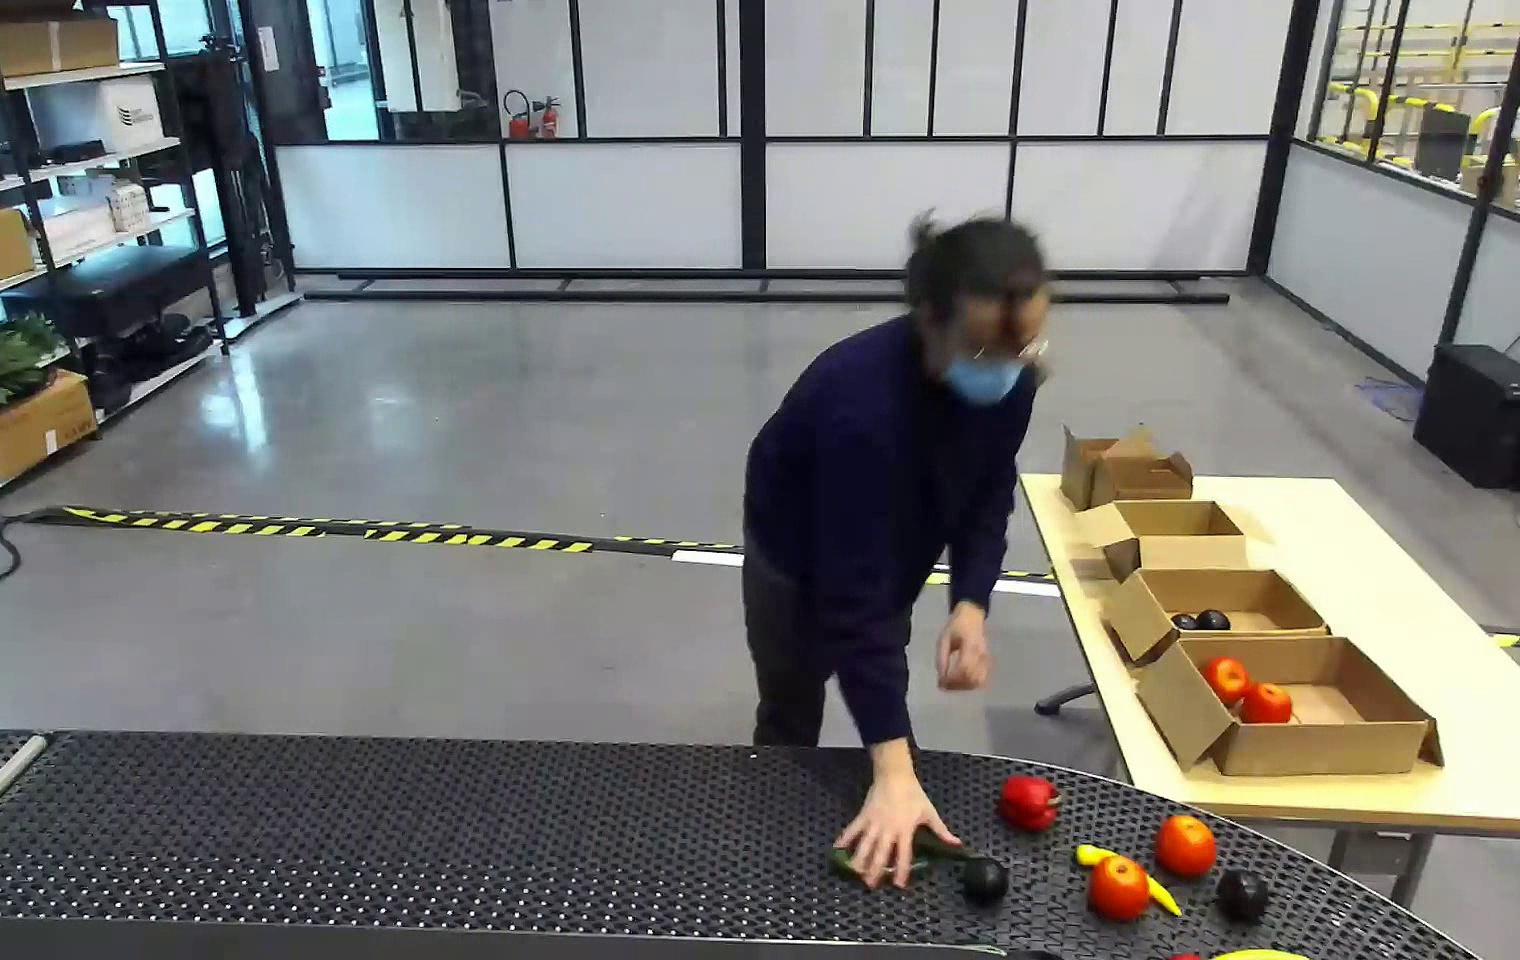Main droite: (1017, 750, 1122, 874)
